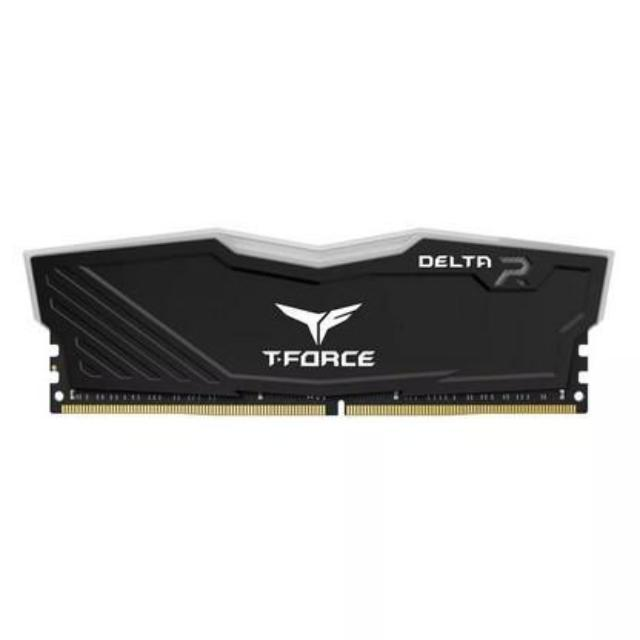RAM: (19, 215, 621, 440)
